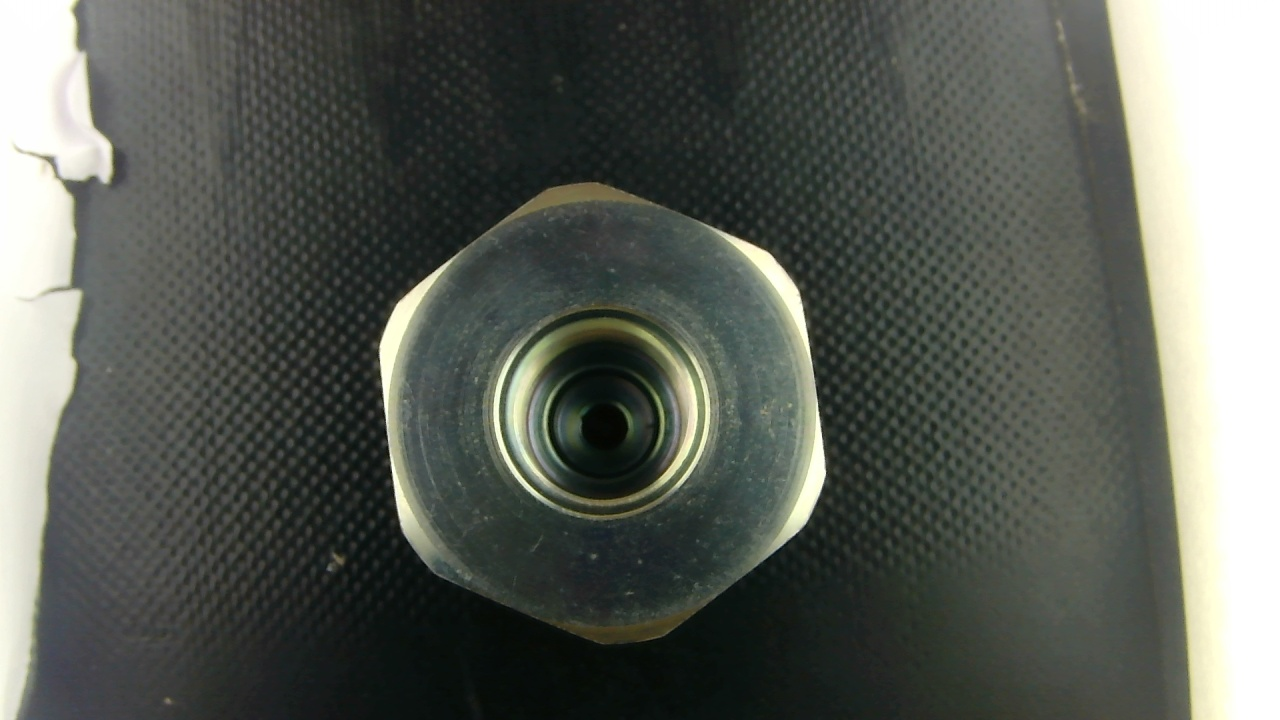Capnut_Okay: (379, 183, 825, 642)
